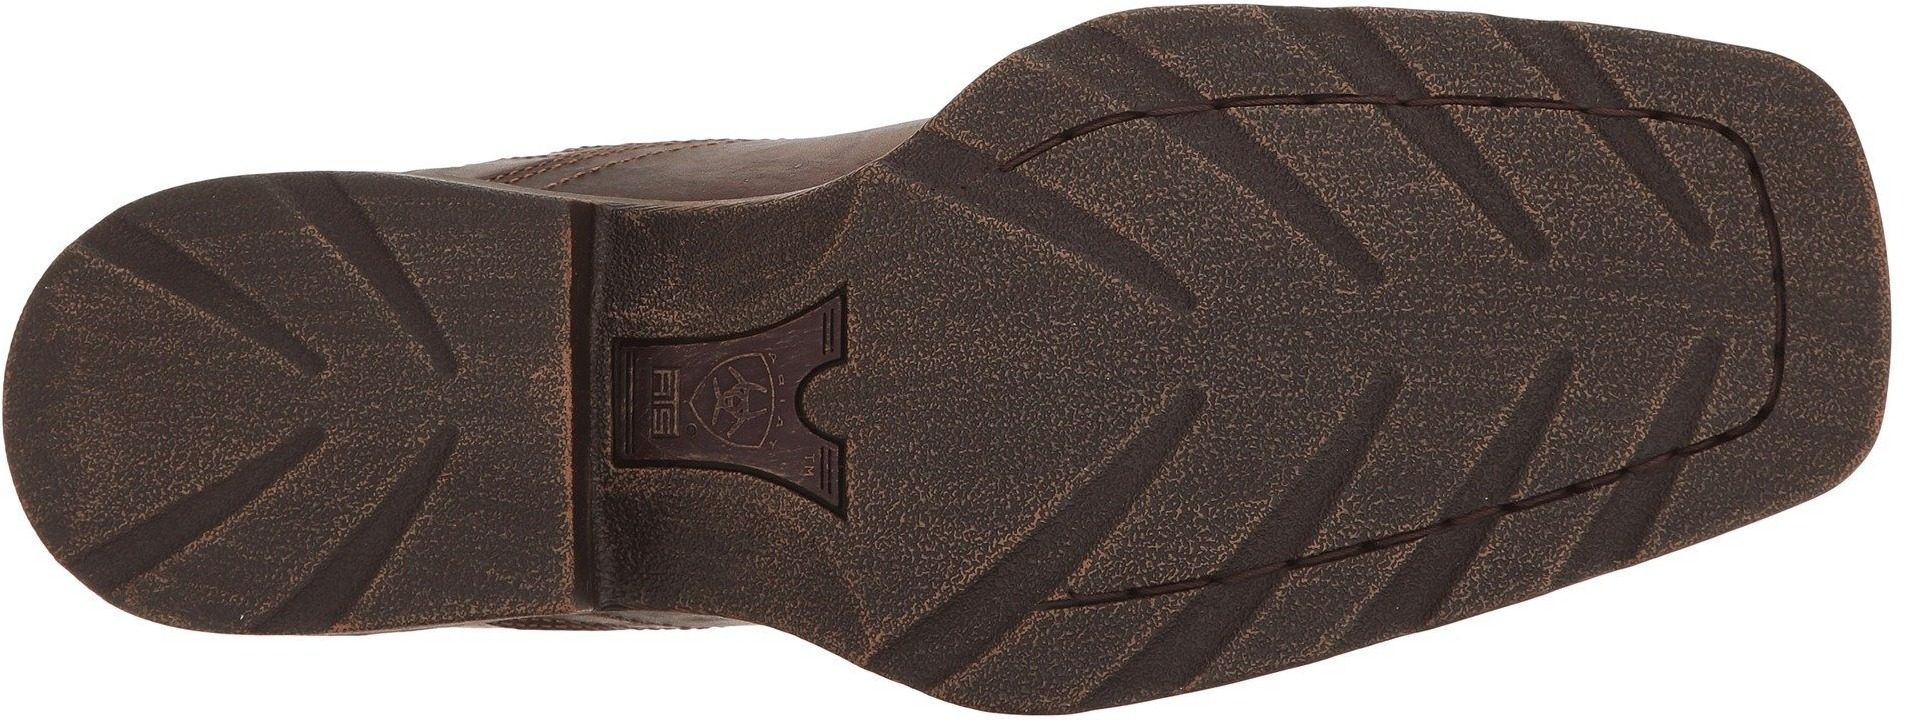exclude: (291, 1, 1038, 205)
other: (1038, 139, 1456, 531), (101, 211, 519, 603), (1456, 146, 1731, 413)
